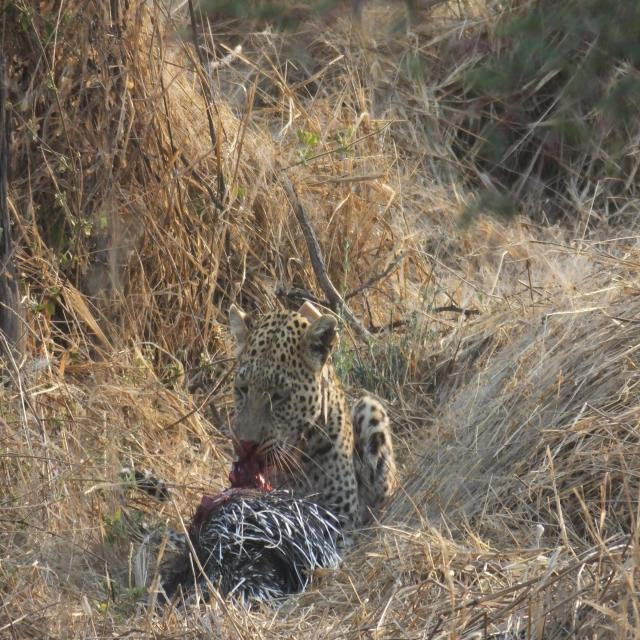Leopard: (177, 310, 393, 545)
